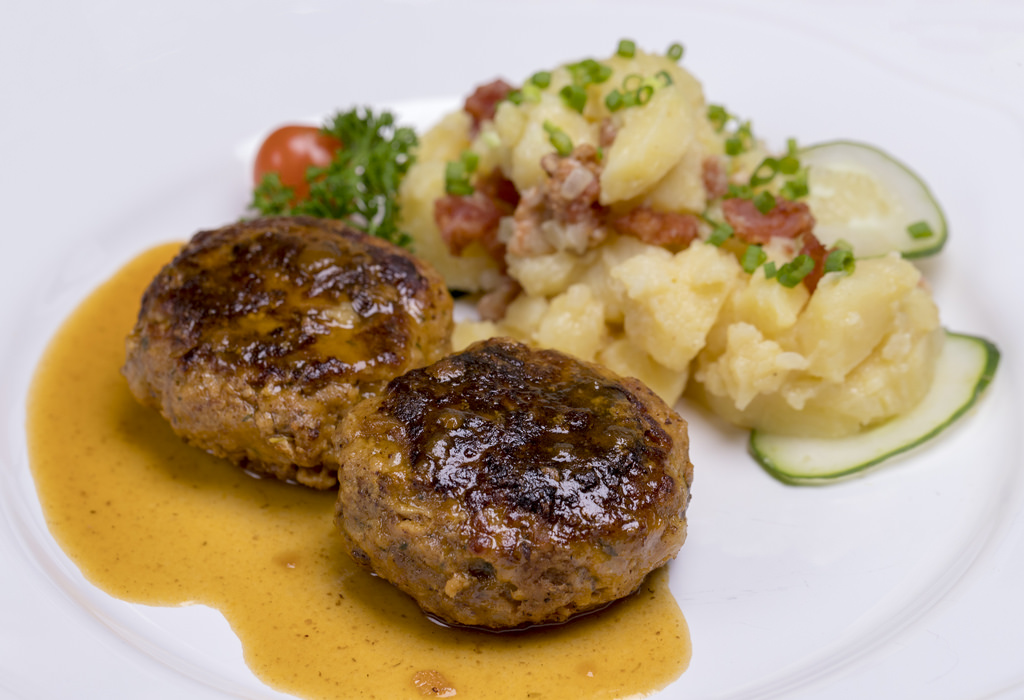boiled potatoes: (411, 66, 947, 412)
meatballs: (343, 351, 693, 632), (147, 240, 459, 477)
